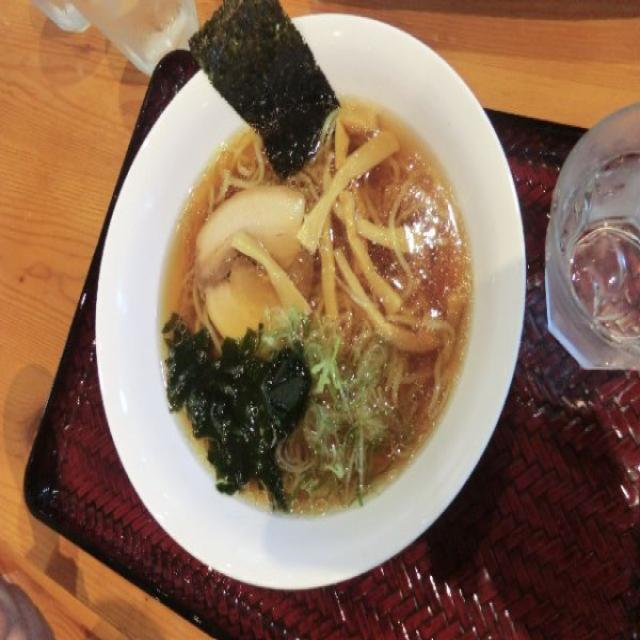面条主食: (90, 2, 524, 594)
